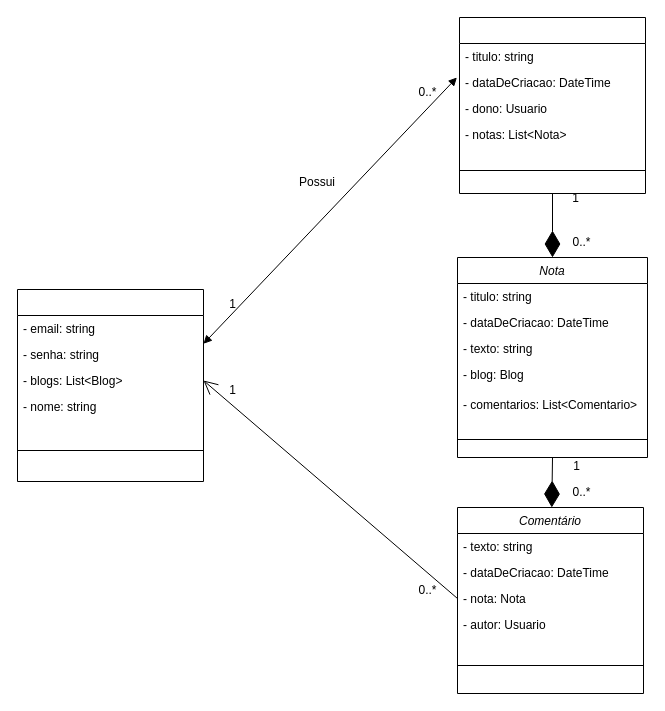
Some shapes in this 665 by 711 pixel diagram are drawn without their labels. The shapes that lost their labels are listed below. From the top down, each one's box as (x1, y1, x2, y2) in pixels, then its label:
(458, 16, 646, 194): Blog
(16, 288, 204, 482): Usuario
